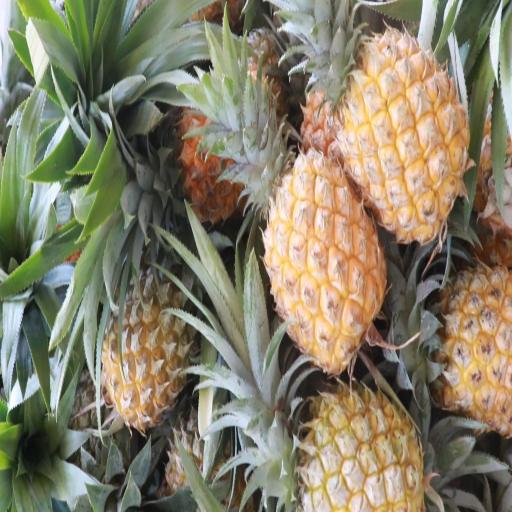Pineapple - v8 v1: (318, 25, 470, 240), (252, 146, 386, 366), (262, 366, 419, 512), (386, 266, 512, 428), (99, 238, 189, 428)
